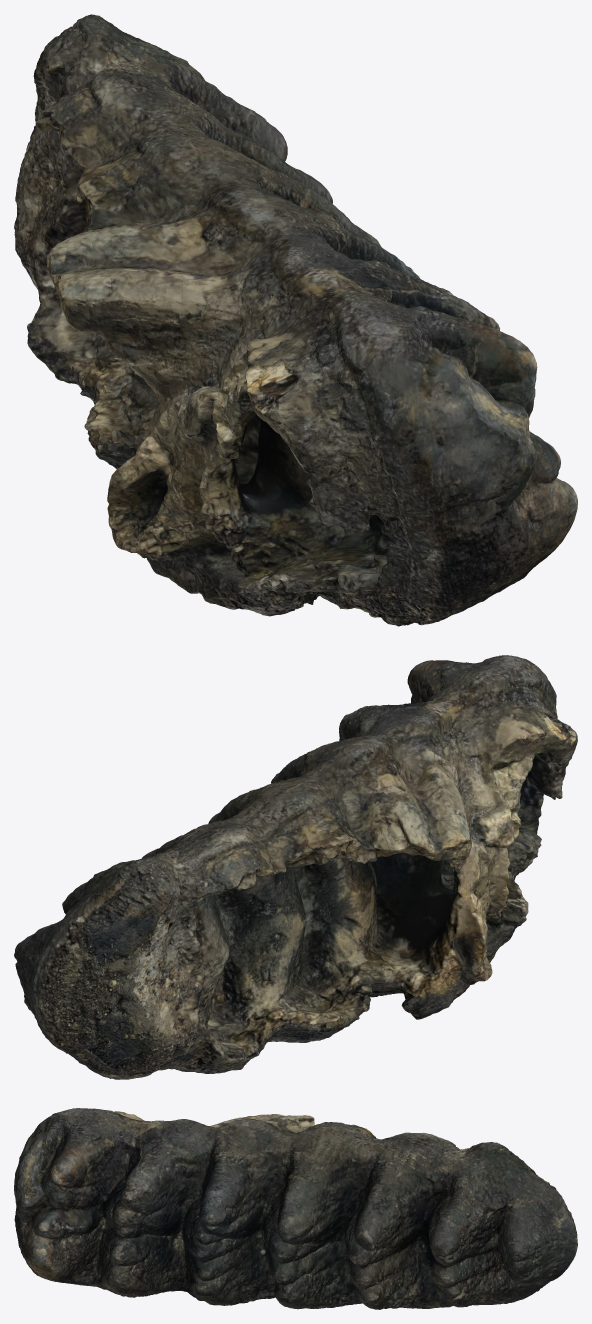
Rendered from 3-4_Stegolophodon_tooth.glb.
The picture shows the model from 3 angles, top to bottom: view 1: azimuth 30°, elevation 25°; view 2: azimuth 150°, elevation 25°; view 3: azimuth 270°, elevation 25°; orthographic projection. The views are drawn at different scales.
Size of the model in its own units: 0.4969 by 0.429 by 1.17.
1 material, 1 textured.
